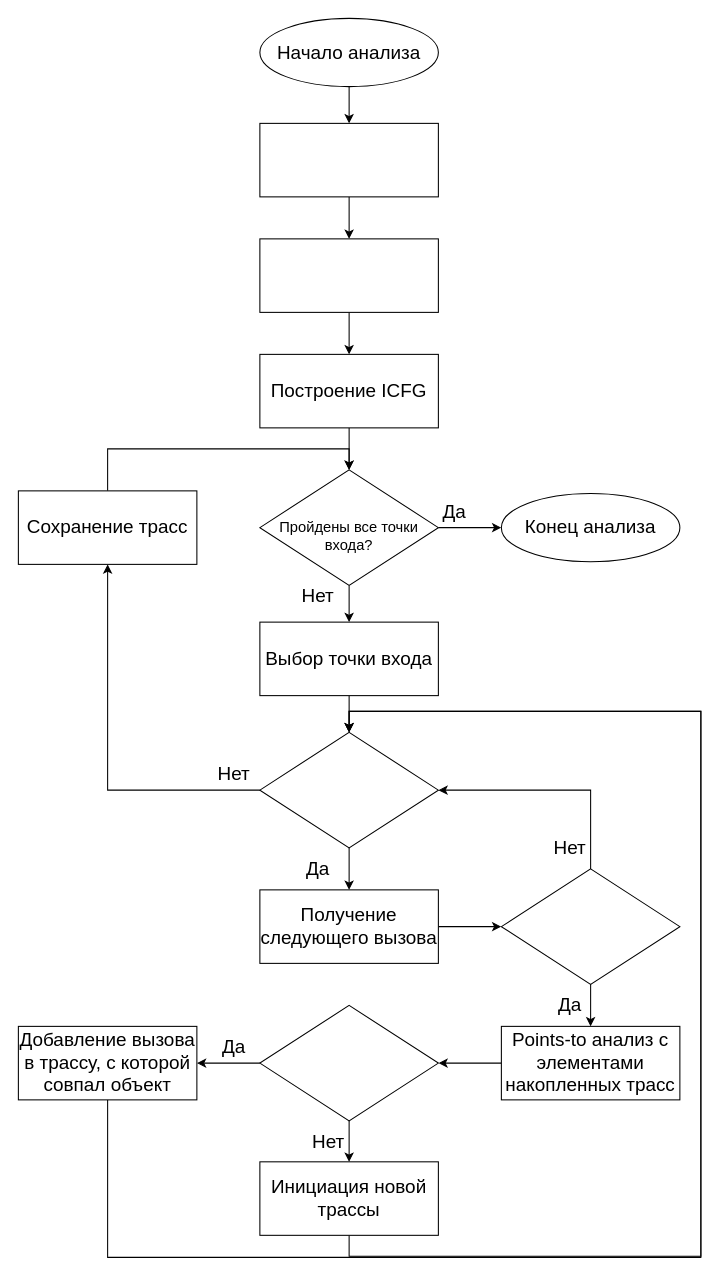
The diagram is 728 pixels wide and 1284 high, and some of its shapes have lost their labels. The shapes that lost their labels are listed below. From the top down, each one's centre as x and y in pixels, then its label:
At [348,159]: "Загрузка JAR в фреймворк для стат. анализа".
At [348,275]: "Поиск точек входа".
At [348,789]: "Можно получить следующий вызов?".
At [590,926]: "Вызов библиотеки?".
At [348,1062]: "Найдено совпадение объектов?".
